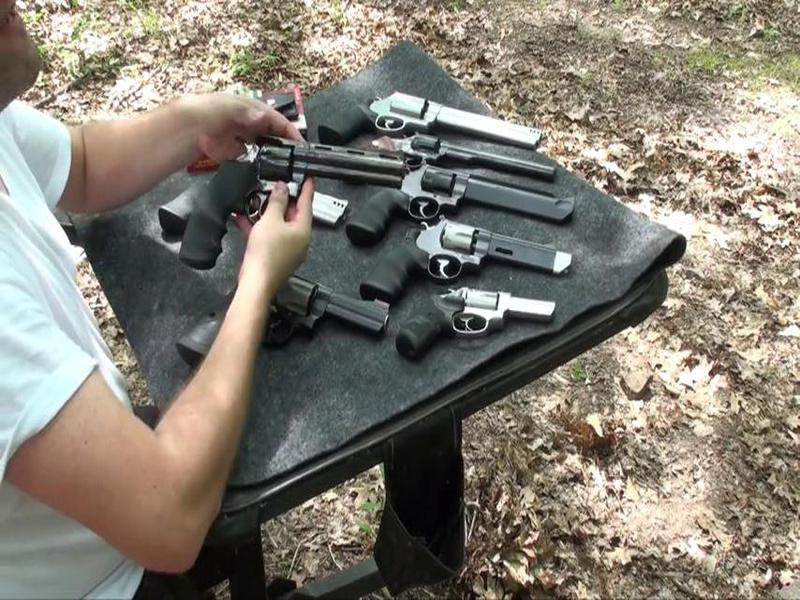Revolver: (179, 129, 417, 295)
